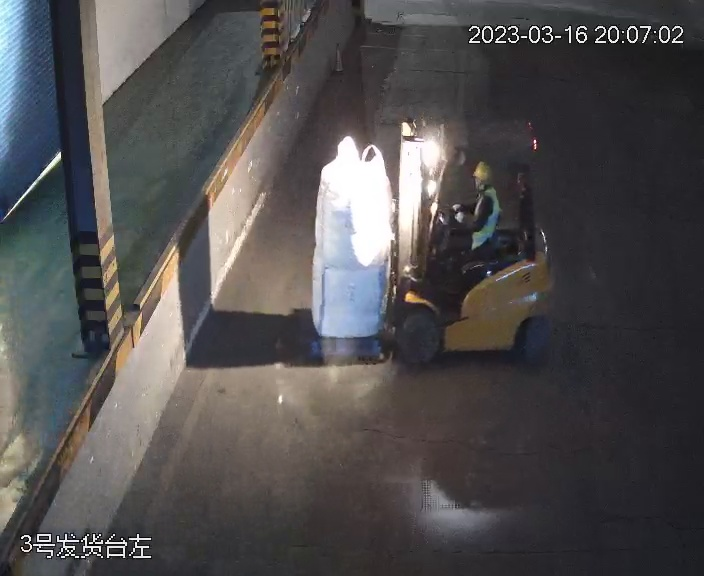head: (470, 160, 502, 215)
helmet: (471, 161, 494, 182)
people: (426, 160, 500, 272)
